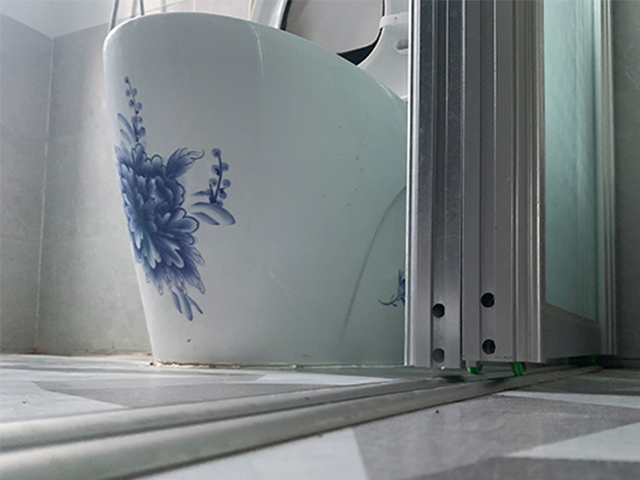closestool: (101, 1, 410, 366)
